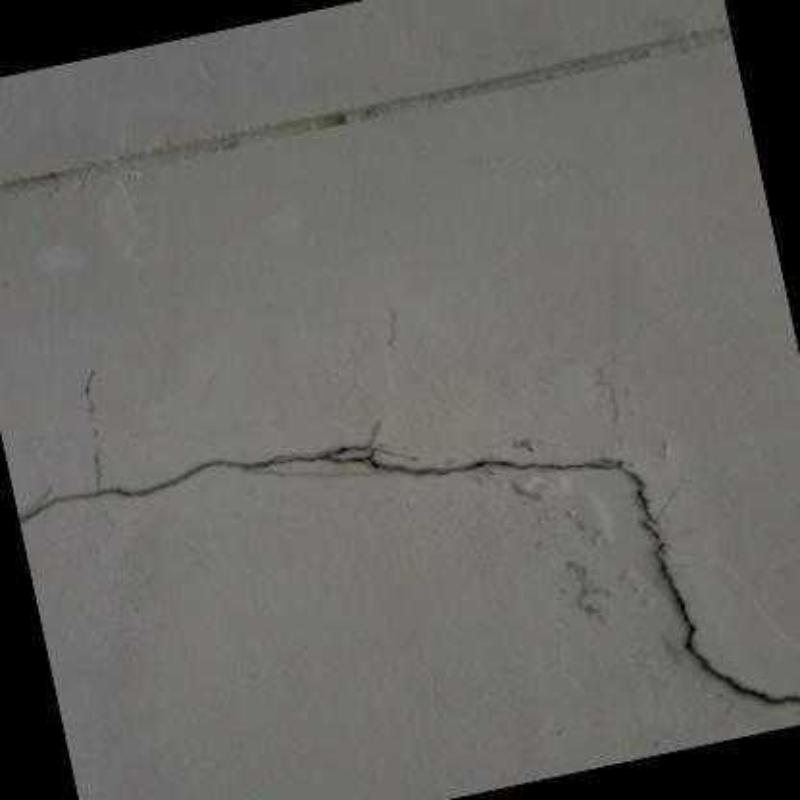pothole: (17, 447, 799, 704), (644, 479, 687, 529), (240, 467, 404, 479), (598, 354, 619, 427), (94, 433, 106, 492), (85, 369, 96, 421), (365, 417, 383, 446)
